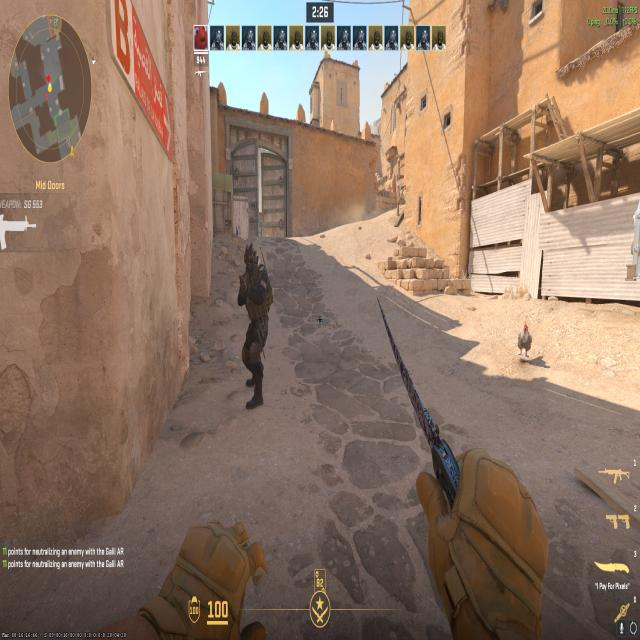ct: (221, 232, 282, 422)
